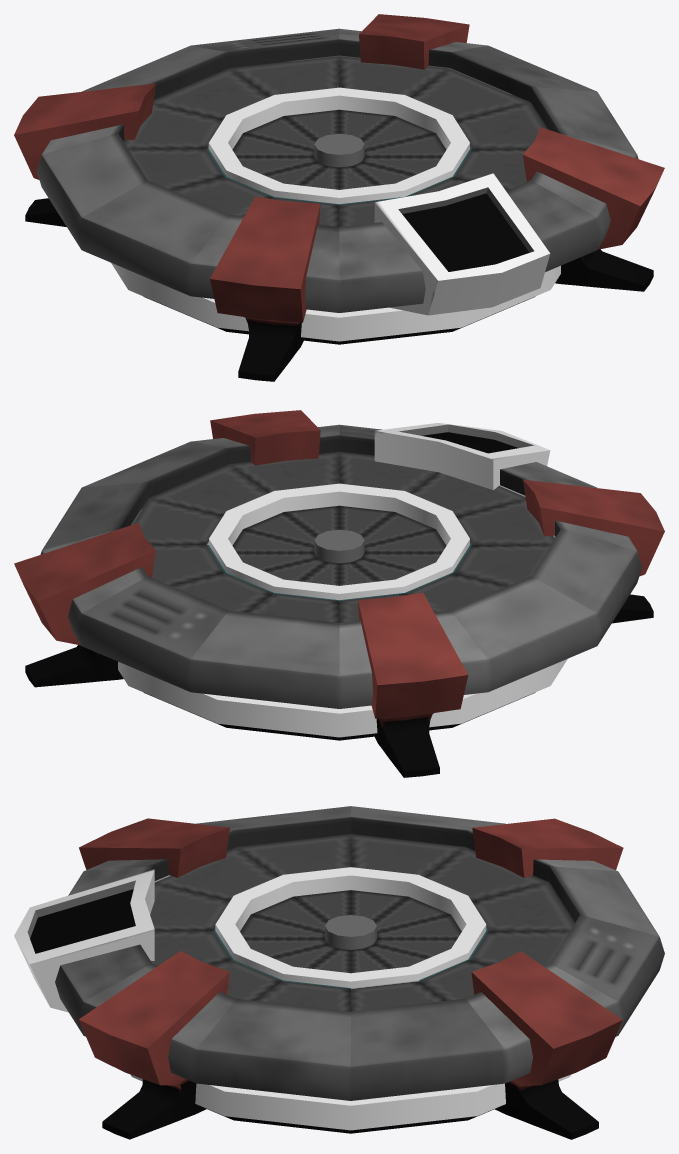
Rendered from ConsoleTerminal.fbx.
3 views of the same model, one above another, from view 1: azimuth 30°, elevation 25°; view 2: azimuth 150°, elevation 25°; view 3: azimuth 270°, elevation 25° (orthographic). The views are drawn at different scales.
Parts seen in each view (by area): view 1: Cube.003; view 2: Cube.003; view 3: Cube.003.
Part boxes in pixels (x1=…): Cube.003: x1=14, y1=14, x2=664, y2=381; Cube.003: x1=14, y1=410, x2=664, y2=777; Cube.003: x1=14, y1=806, x2=664, y2=1139.
Bounding box in the file's own units: 2 × 0.4758 × 2.07.
